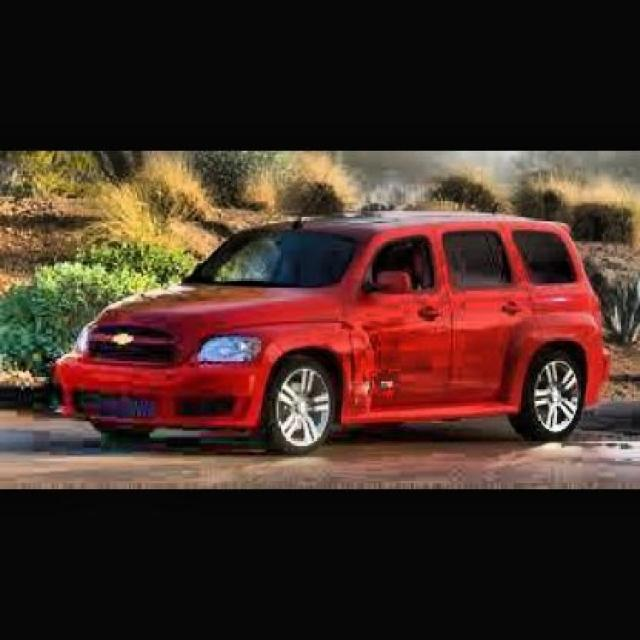red: (54, 210, 605, 456)
